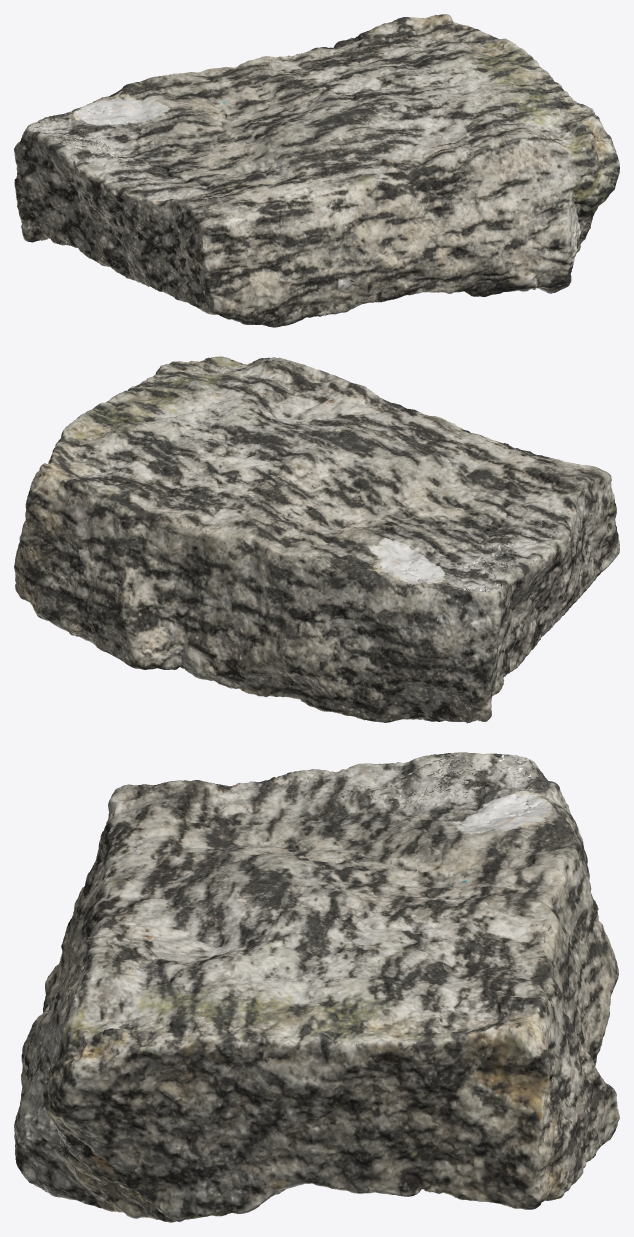
File: sample-05.glb
3 views of the same model, one above another, from view 1: azimuth 30°, elevation 25°; view 2: azimuth 150°, elevation 25°; view 3: azimuth 270°, elevation 25° (orthographic). The views are drawn at different scales.
Size of the model in its own units: 0.6472 by 0.2129 by 0.5301.
Materials: 1 (1 with a texture image).
